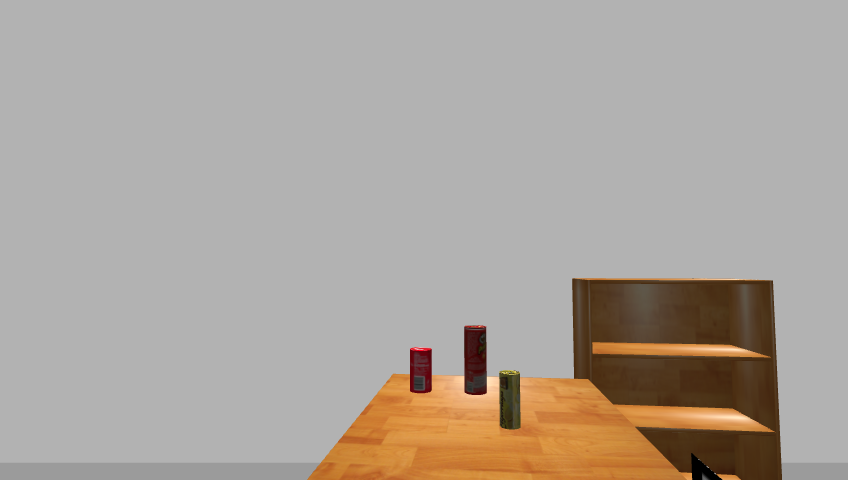aruco marker: (687, 454, 728, 480)
biscuits pack: (499, 370, 522, 430)
bookshelf: (567, 277, 787, 479)
coke can: (408, 347, 434, 395)
dinner table: (297, 372, 700, 480)
pringles can: (461, 324, 489, 396)
